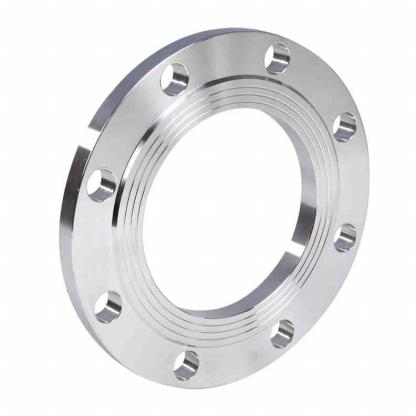FOD: (56, 20, 375, 392)
